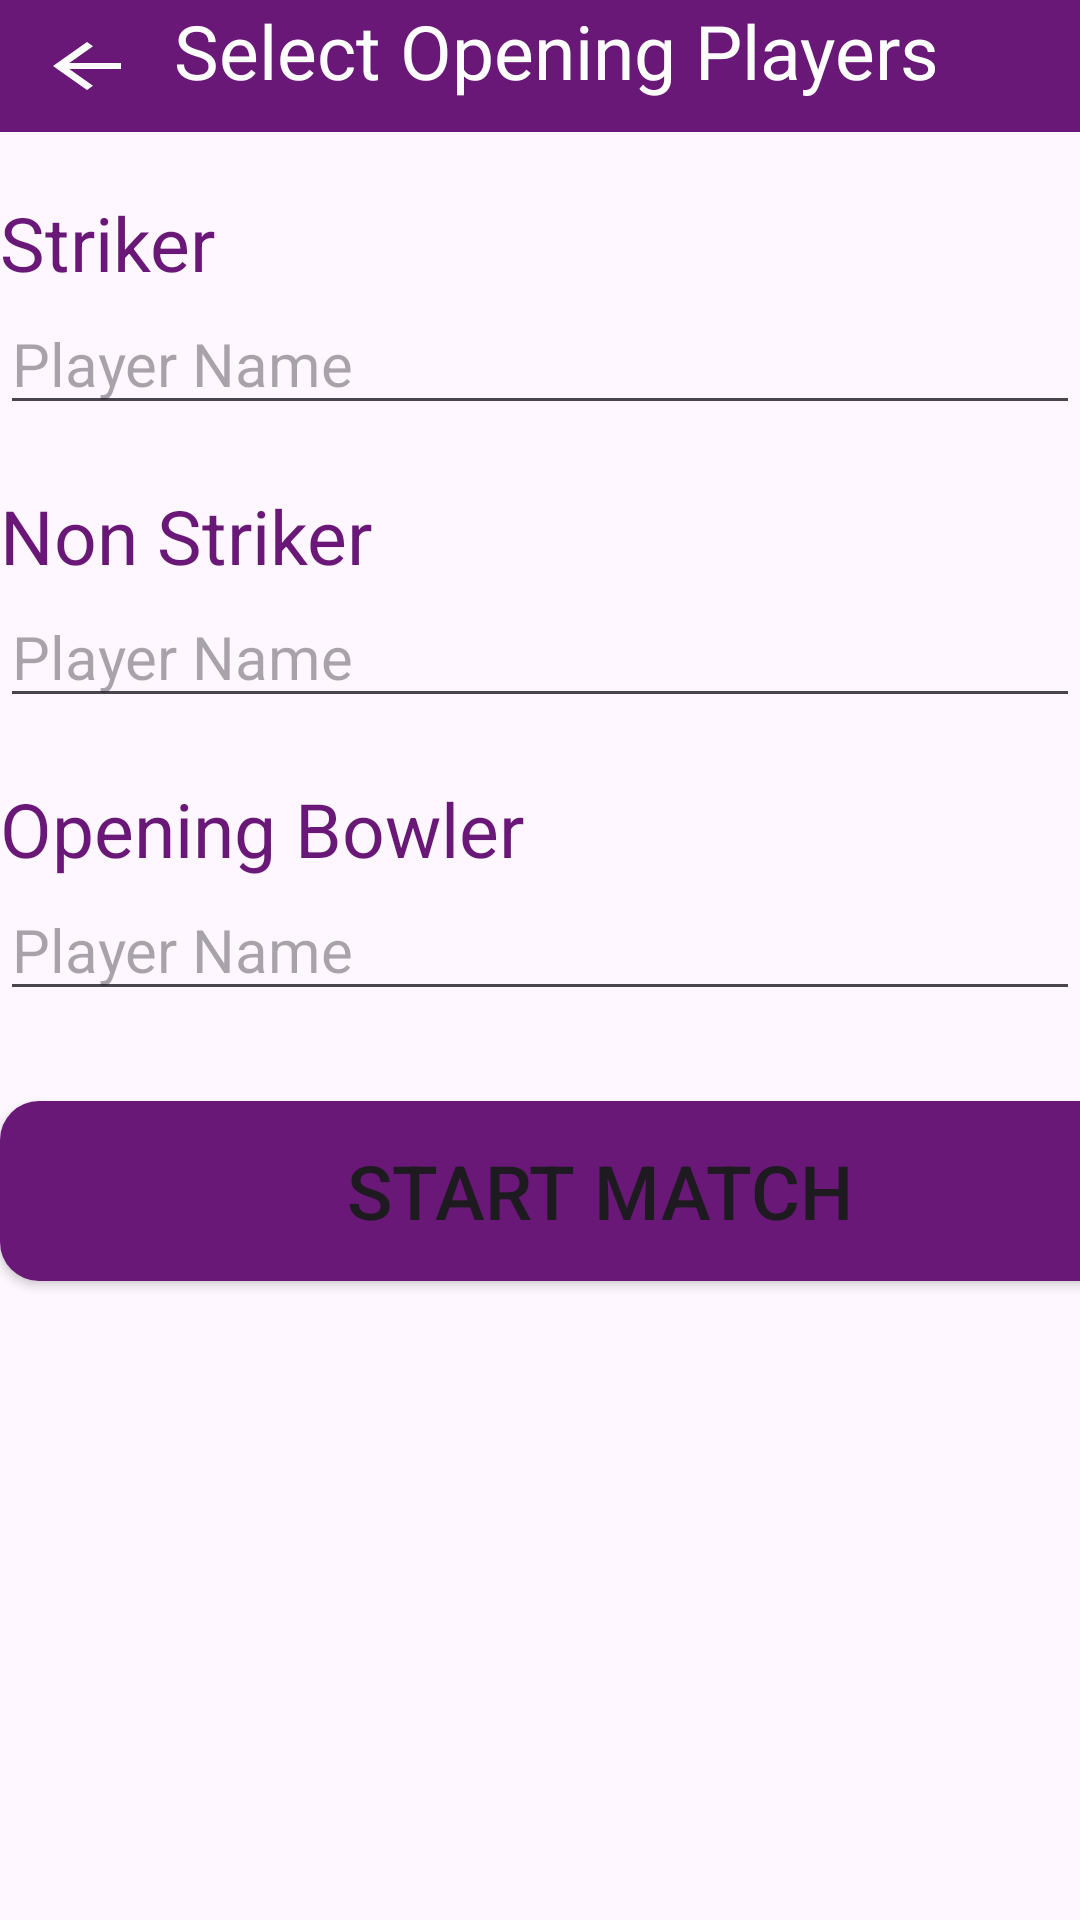

Icons on this 1080px x 1920px Android screen, each with the point to tap as [x,y]:
Back: [87,66]
